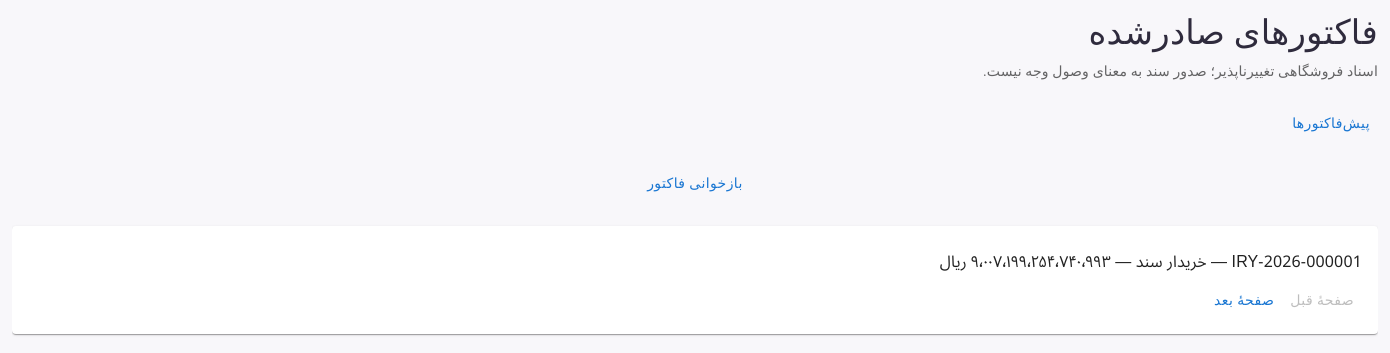
it: immutable issued invoice views › paginates bounded server results without client totals
Expected: the link "IRY-2026-000001 — خریدار سند — ۹٬۰۰۷٬۱۹۹٬۲۵۴٬۷۴۰٬۹۹۳ ریال" is shown, top-left (940, 245), bottom-right (1362, 279)
Expected: the button "صفحهٔ قبل" is disabled, top-left (1282, 282), bottom-right (1362, 318)
Click the button "صفحهٔ بعد" at (1244, 300), box top-left (1206, 282), bottom-right (1282, 318)
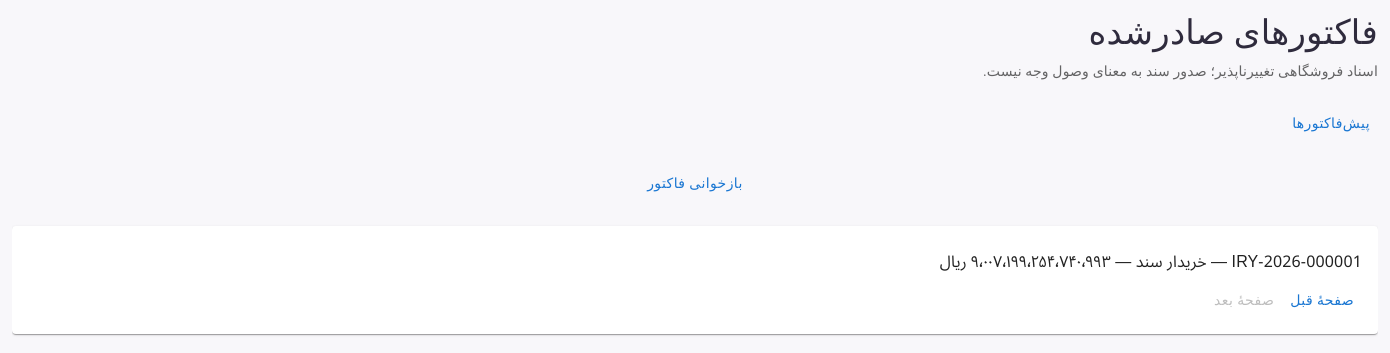
Expected: the button "صفحهٔ بعد" is disabled, top-left (1206, 282), bottom-right (1282, 318)
